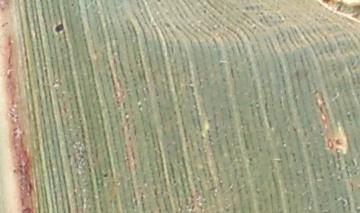tarspot: (53, 22, 65, 34), (334, 137, 345, 146), (1, 21, 10, 28), (102, 172, 110, 179), (246, 156, 254, 162), (202, 9, 208, 16), (127, 135, 132, 141), (70, 2, 75, 7), (154, 1, 161, 3)
